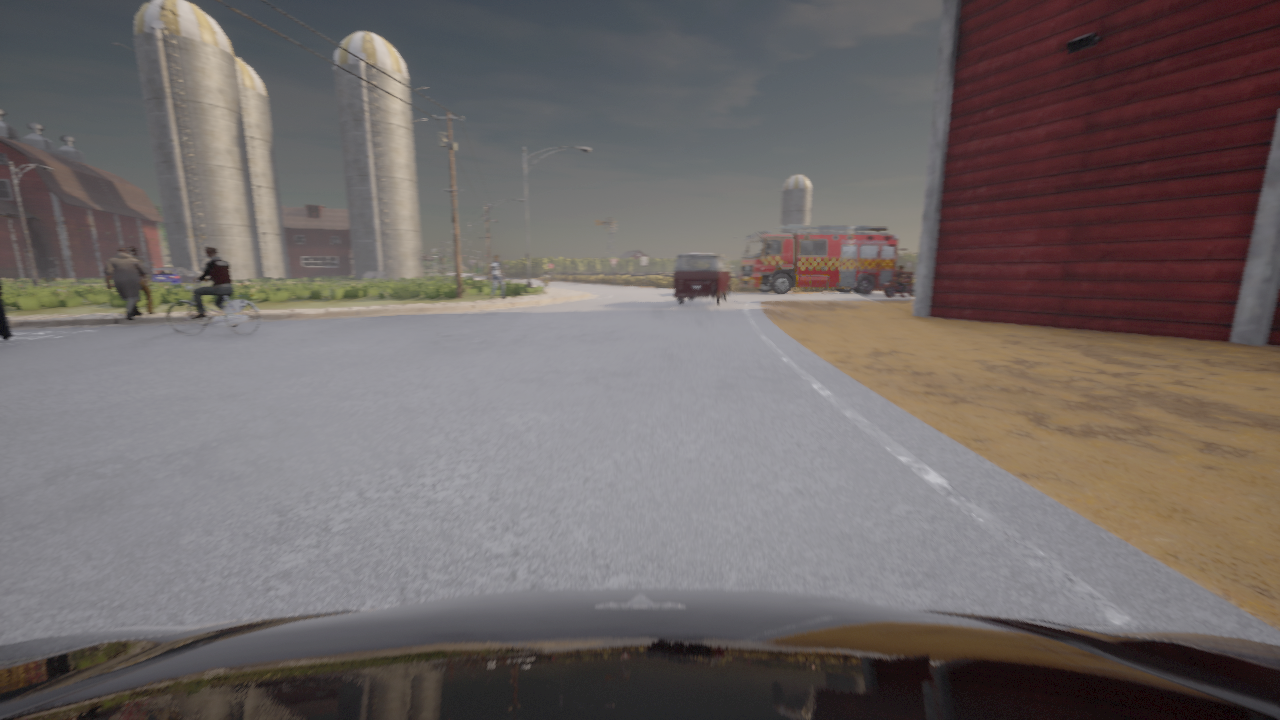cyclist: (0, 588, 1279, 719), (739, 226, 897, 294), (166, 280, 259, 335), (673, 253, 732, 305), (148, 268, 200, 286), (883, 274, 914, 296)
pedestrian: (104, 247, 149, 320), (127, 246, 156, 316), (490, 255, 505, 299), (541, 271, 550, 295)
